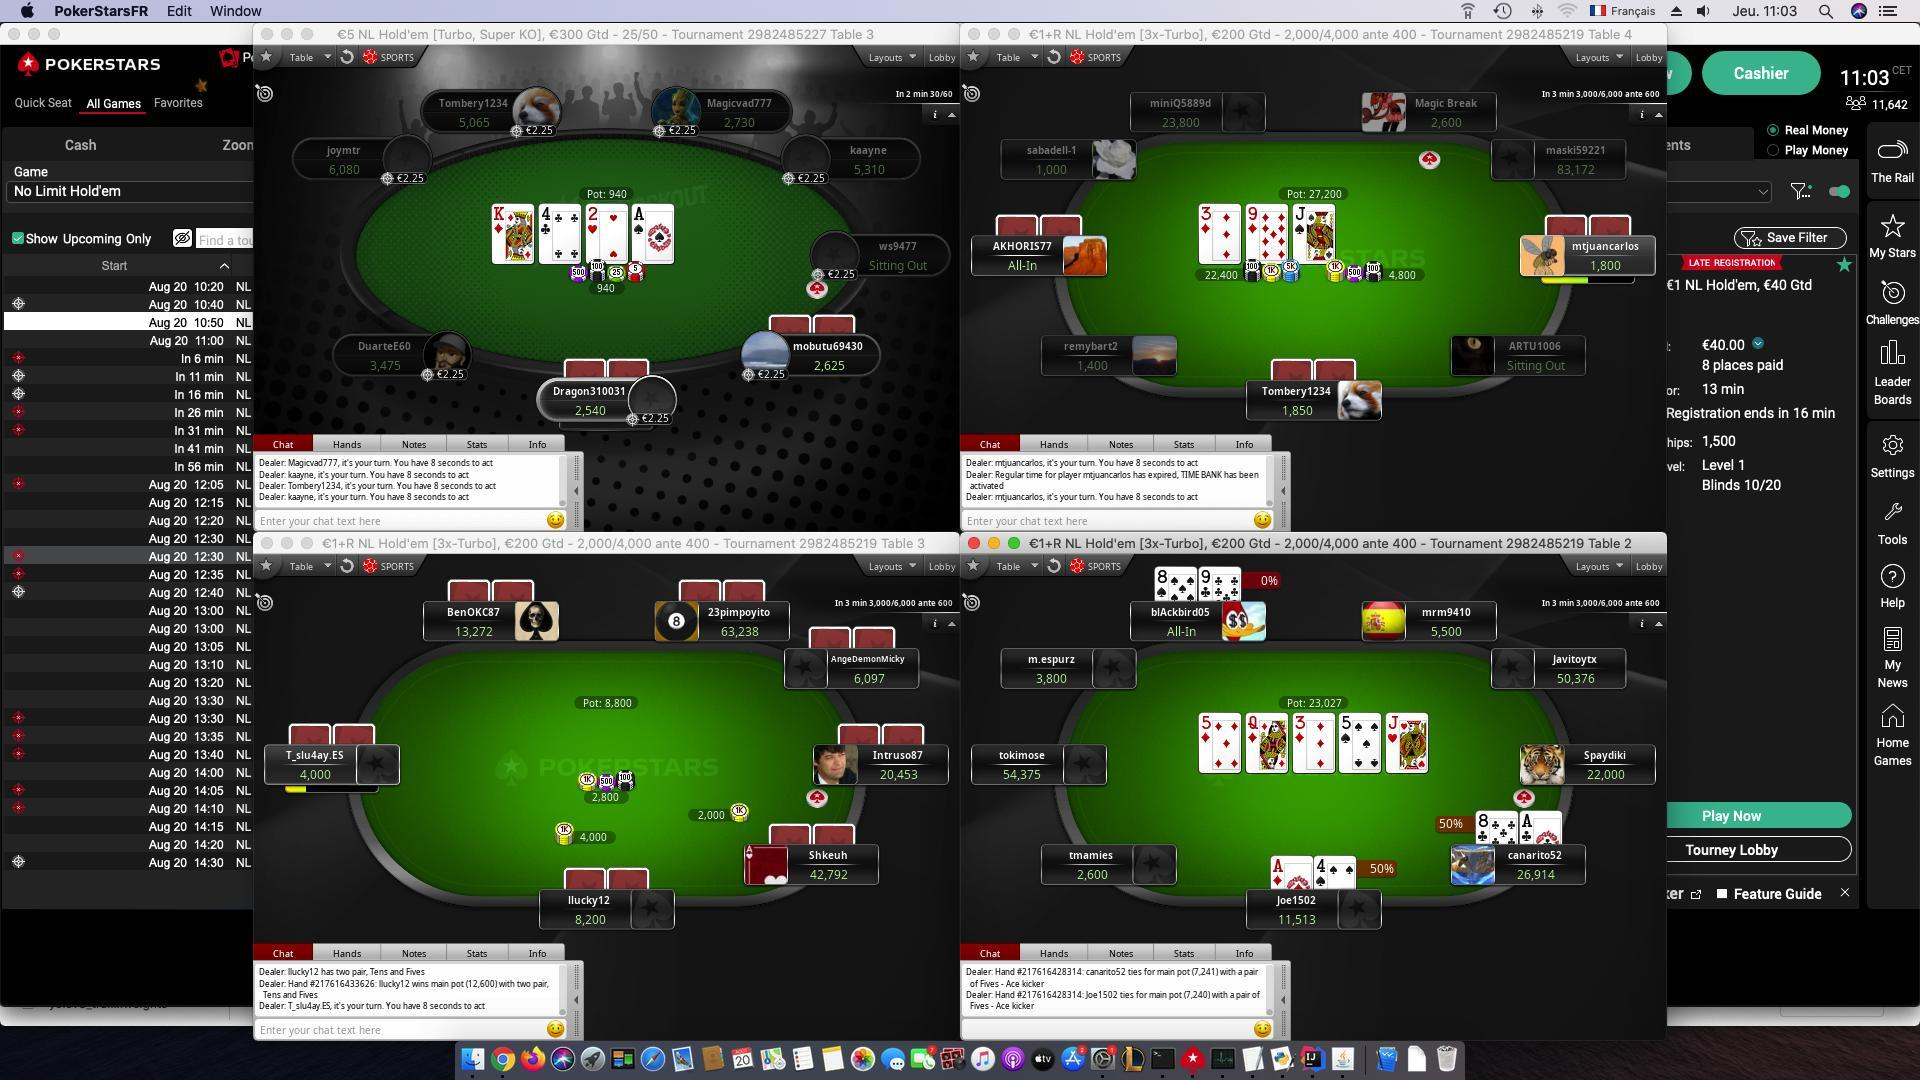2H: (582, 199, 604, 235)
3D: (1290, 709, 1313, 748), (1197, 200, 1218, 240)
4C: (537, 200, 558, 237)
4S: (1309, 853, 1332, 887)
5D: (1195, 705, 1215, 746)
5S: (1337, 712, 1357, 746)
8C: (1473, 810, 1491, 841)
8S: (1153, 567, 1171, 597)
9C: (1197, 564, 1215, 599)
9D: (1244, 202, 1265, 237)
AC: (1519, 815, 1538, 841)
AD: (1269, 853, 1290, 887)
AS: (629, 202, 647, 237)
JH: (1386, 713, 1402, 745)
JS: (1291, 199, 1309, 233)
KD: (488, 203, 512, 235)
QD: (1244, 713, 1262, 745)
